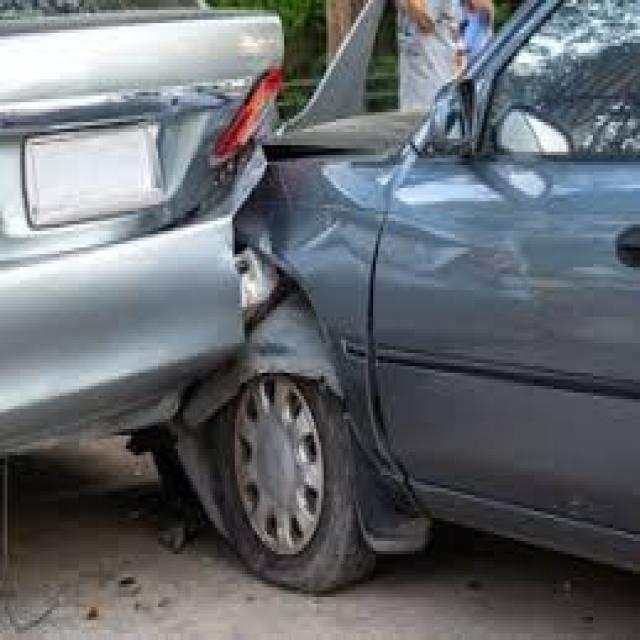accident: (0, 0, 636, 552)
